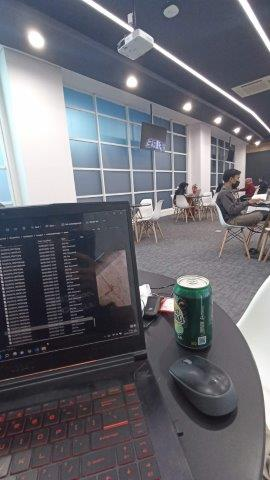kaleng: (174, 275, 213, 348)
